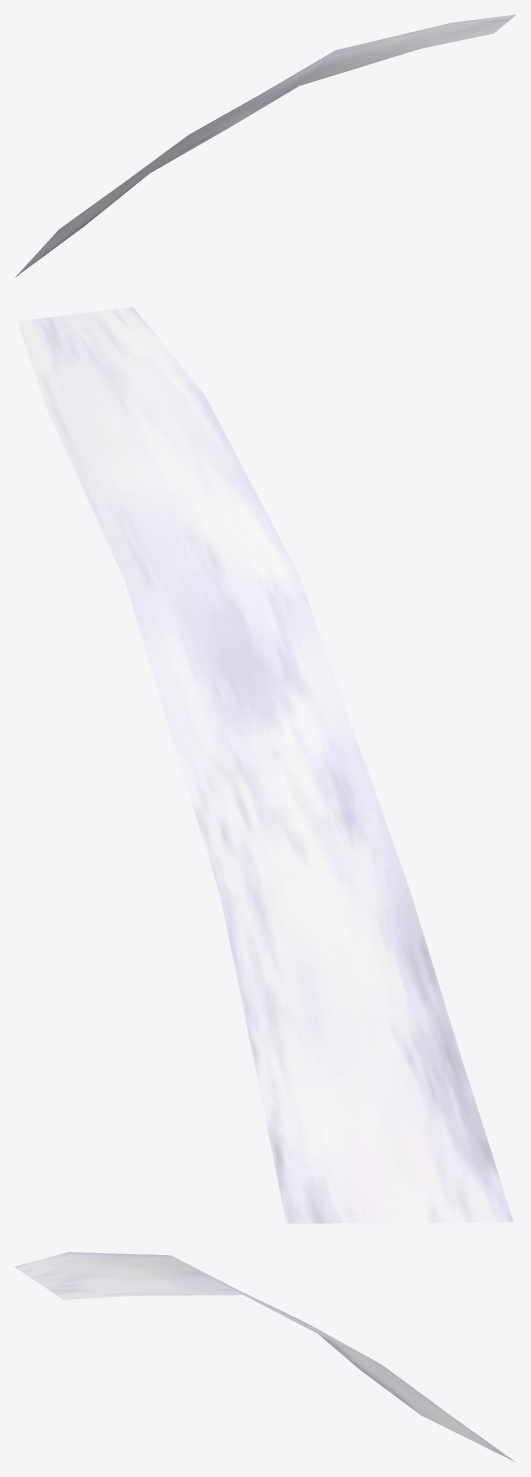
File: OM_p_a_river_08f_00_17_0_13.fbx
3 views of the same model, one above another, from view 1: azimuth 30°, elevation 25°; view 2: azimuth 150°, elevation 25°; view 3: azimuth 270°, elevation 25° (orthographic). The views are drawn at different scales.
Parts seen in each view (by area): view 1: OM_p_a_river_08f_00_17_0_13; view 2: OM_p_a_river_08f_00_17_0_13; view 3: OM_p_a_river_08f_00_17_0_13.
Part boxes in pixels (x1,y1,x2,y2): OM_p_a_river_08f_00_17_0_13: [15, 14, 516, 277]; OM_p_a_river_08f_00_17_0_13: [17, 307, 513, 1223]; OM_p_a_river_08f_00_17_0_13: [14, 1252, 515, 1462].
Size of the model in its own units: 7.47 by 5.12 by 6.17.
